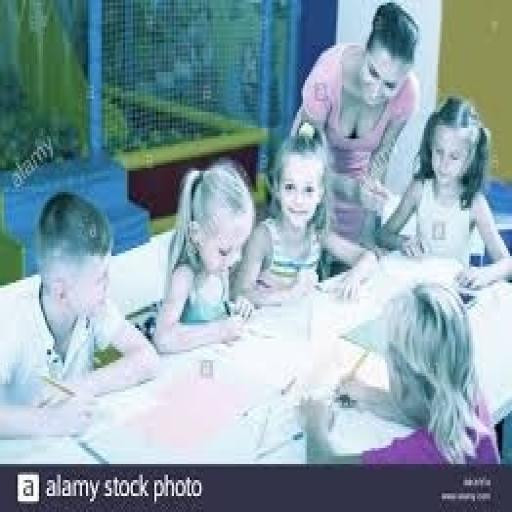sitting: (2, 3, 508, 461), (0, 187, 160, 440), (287, 0, 422, 277), (338, 277, 502, 464), (375, 93, 510, 291), (135, 157, 258, 355), (229, 120, 334, 309)
